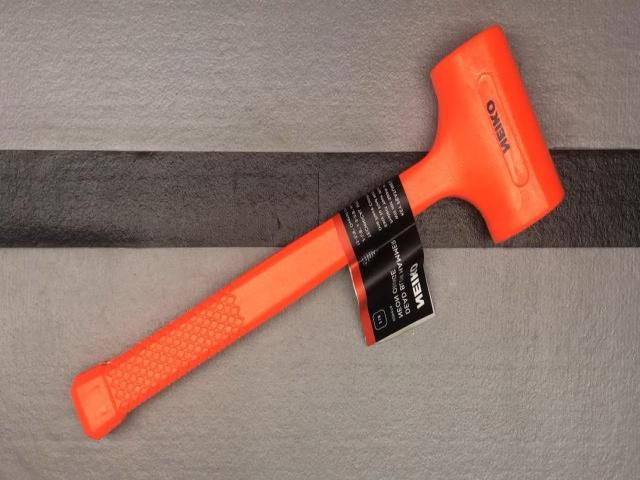hammer: (71, 26, 565, 440)
